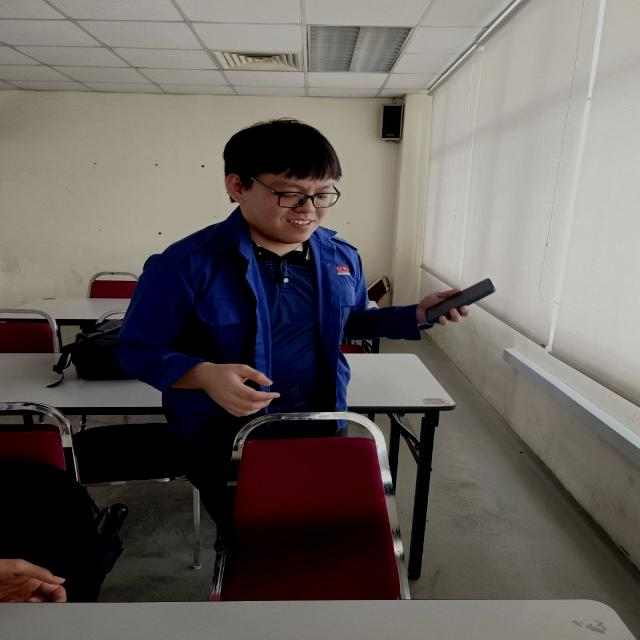person_with_labcoat: (114, 121, 455, 528)
